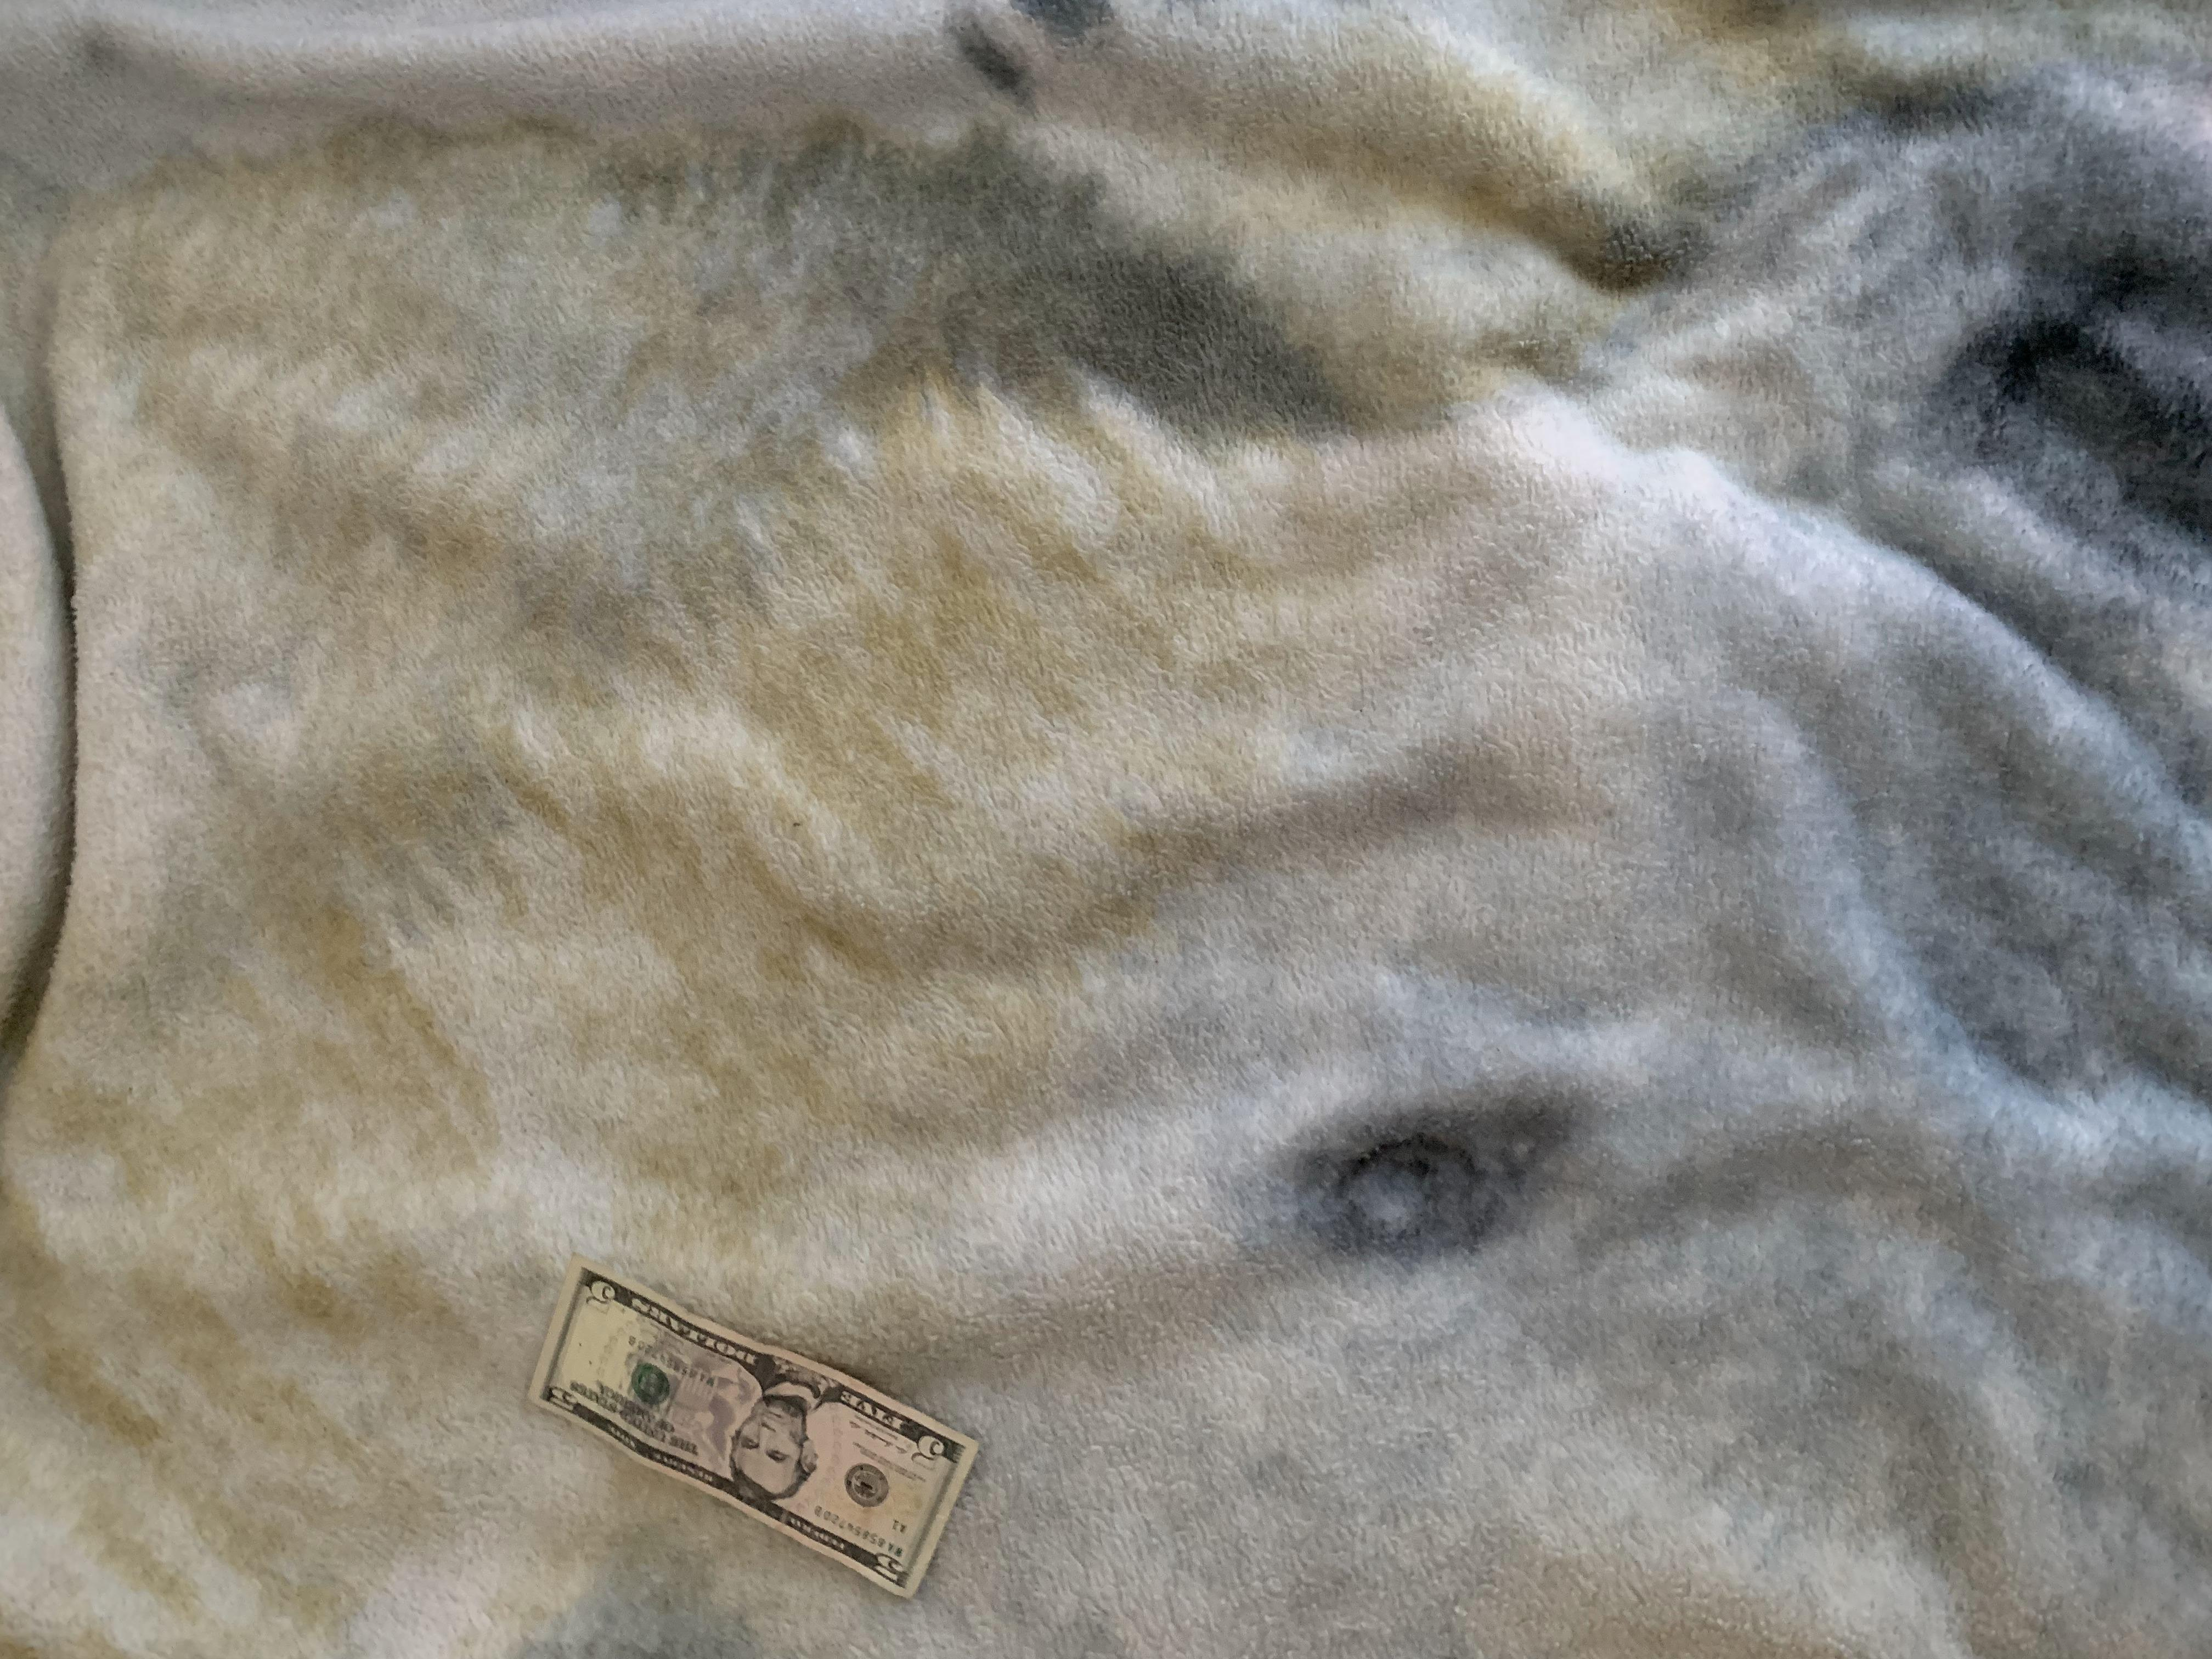FiveBill: (526, 1263, 982, 1600)
